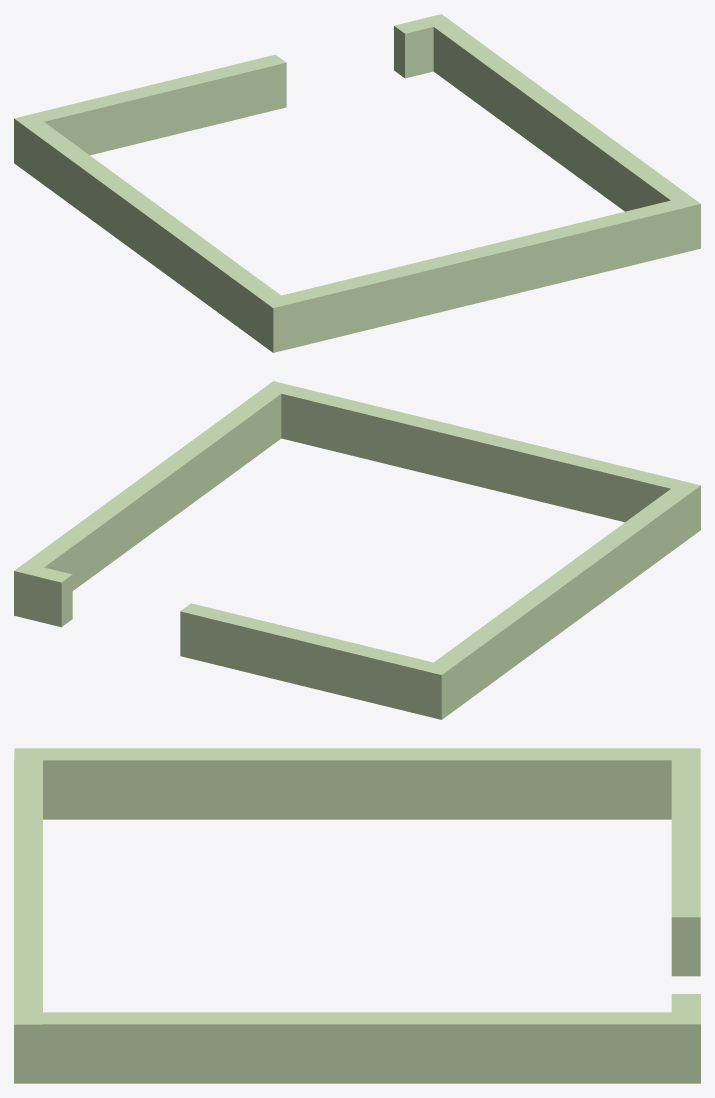
Rendered from capture_center_fence.fbx.
3 views of the same model, one above another, from view 1: azimuth 30°, elevation 25°; view 2: azimuth 150°, elevation 25°; view 3: azimuth 270°, elevation 25° (orthographic). The views are drawn at different scales.
Visible parts, largest first — view 1: fence01.002; view 2: fence01.002; view 3: fence01.002.
Boxes of the visible parts, x1=… form: fence01.002: x1=14, y1=14, x2=700, y2=352; fence01.002: x1=14, y1=381, x2=700, y2=719; fence01.002: x1=14, y1=748, x2=700, y2=1083.
Bounding box in the file's own units: 1999 × 200 × 2100.
